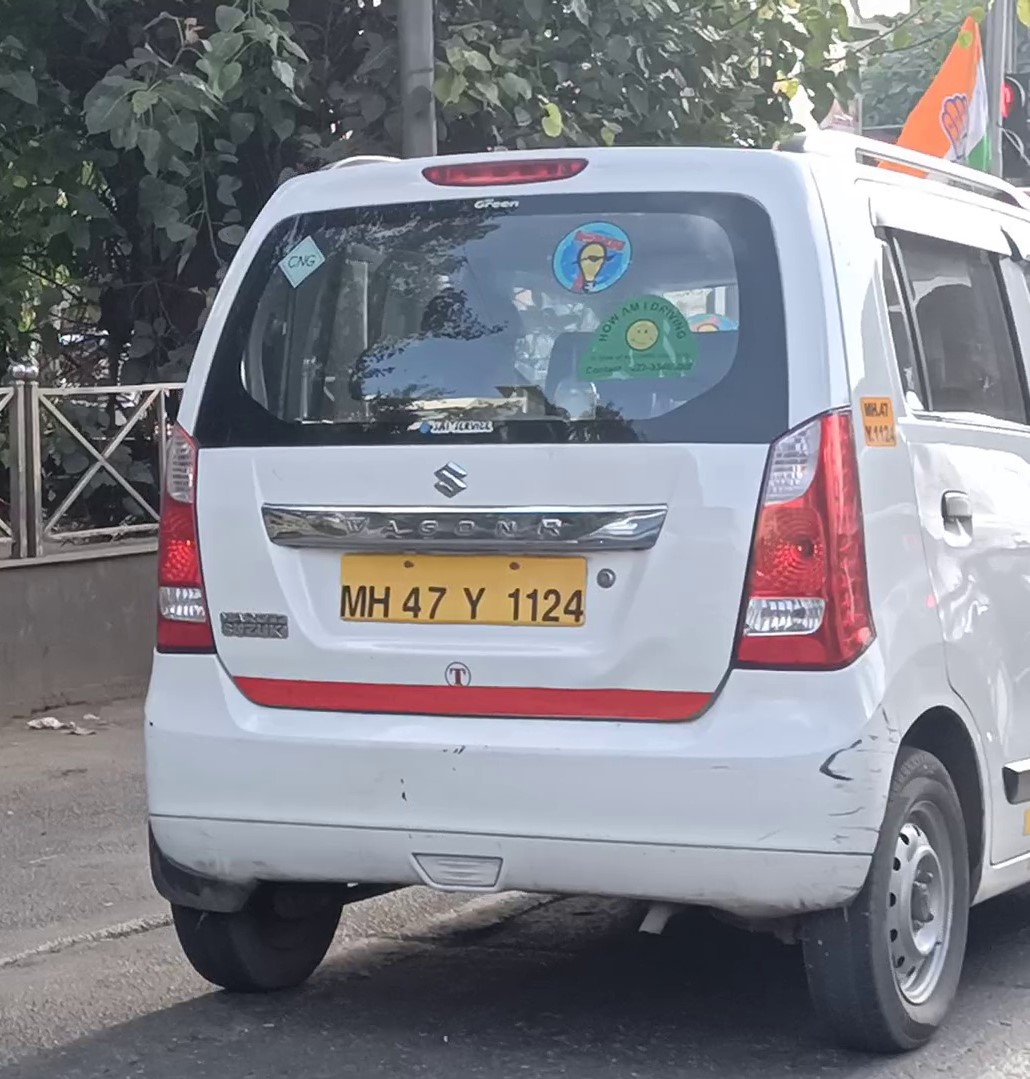MH47Y1124: (342, 554, 591, 627)
